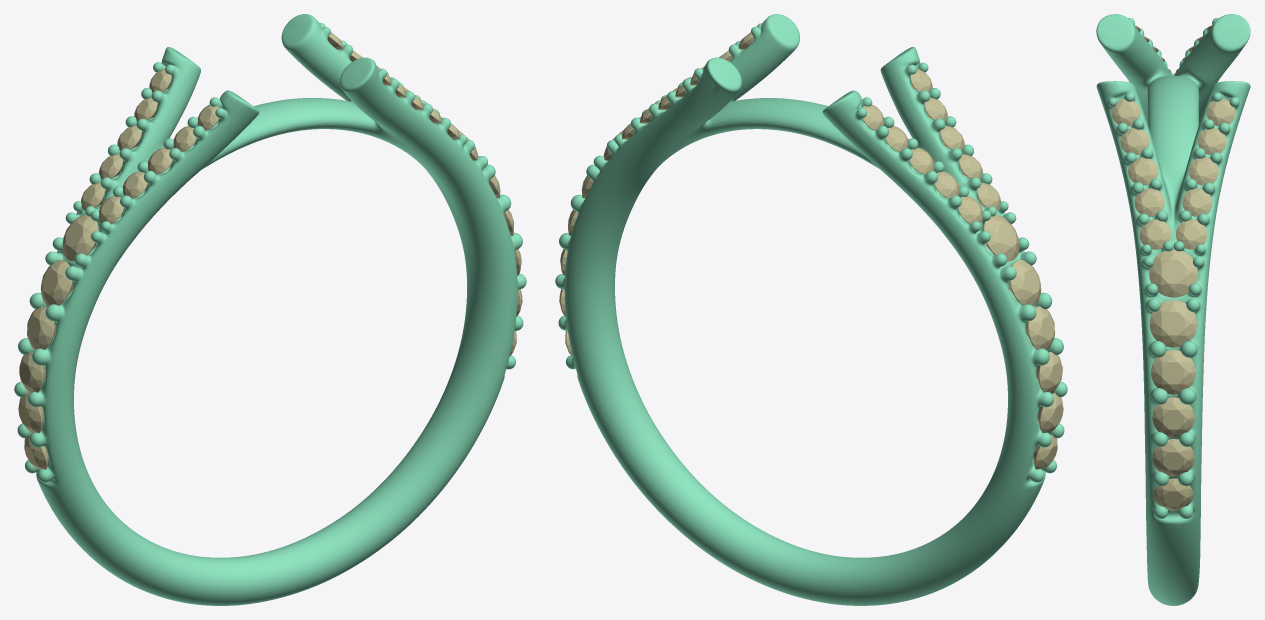
3 renders of one model, left to right at view 1: azimuth 30°, elevation 25°; view 2: azimuth 150°, elevation 25°; view 3: azimuth 270°, elevation 25°, orthographic.
Parts seen in each view (by area): view 1: Metal02, Diamond_Gem.023, Diamond_Gem.022, Diamond_Gem.018, Diamond_Gem.019, Diamond_Gem.020; view 2: Metal02, Diamond_Gem.023, Diamond_Gem.022, Diamond_Gem.018, Diamond_Gem.019, Diamond_Gem.020; view 3: Metal02, Diamond_Gem.012, Diamond_Gem.013, Diamond_Gem.017, Diamond_Gem.016, Diamond_Gem.015, Diamond_Gem.014, Diamond_Gem, Diamond_Gem.001, Diamond_Gem.007, Diamond_Gem.008, Diamond_Gem.006 (+5 smaller).
Boxes of the visible parts, left/top/right/bottom form: Metal02: left=14, top=14, right=526, bottom=605; Diamond_Gem.023: left=62, top=214, right=98, bottom=261; Diamond_Gem.022: left=40, top=260, right=73, bottom=306; Diamond_Gem.018: left=27, top=306, right=56, bottom=350; Diamond_Gem.019: left=19, top=351, right=45, bottom=393; Diamond_Gem.020: left=18, top=393, right=44, bottom=433; Metal02: left=555, top=14, right=1067, bottom=605; Diamond_Gem.023: left=983, top=214, right=1019, bottom=261; Diamond_Gem.022: left=1008, top=260, right=1041, bottom=306; Diamond_Gem.018: left=1025, top=306, right=1054, bottom=350; Diamond_Gem.019: left=1036, top=351, right=1062, bottom=393; Diamond_Gem.020: left=1037, top=393, right=1063, bottom=433; Metal02: left=1096, top=14, right=1250, bottom=605; Diamond_Gem.012: left=1149, top=249, right=1197, bottom=297; Diamond_Gem.013: left=1149, top=300, right=1197, bottom=347; Diamond_Gem.017: left=1151, top=350, right=1195, bottom=394; Diamond_Gem.016: left=1152, top=397, right=1194, bottom=437; Diamond_Gem.015: left=1152, top=438, right=1194, bottom=476; Diamond_Gem.014: left=1153, top=478, right=1193, bottom=510; Diamond_Gem: left=1139, top=219, right=1171, bottom=249; Diamond_Gem.001: left=1176, top=219, right=1207, bottom=249; Diamond_Gem.007: left=1134, top=188, right=1164, bottom=216; Diamond_Gem.008: left=1182, top=188, right=1212, bottom=216; Diamond_Gem.006: left=1128, top=157, right=1158, bottom=185.
Size of the model in its own units: 21.31 by 22.25 by 5.84.
